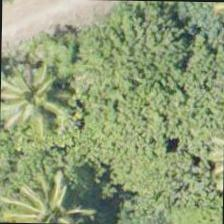Kelapa_Sawit: (7, 172, 99, 223)
